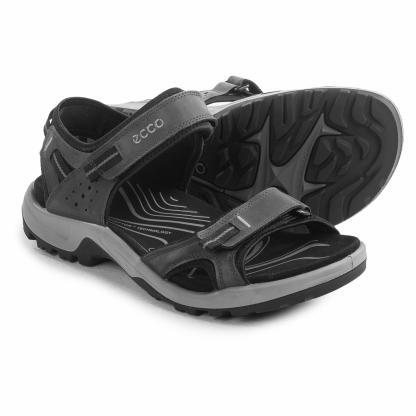ankle: (72, 147, 85, 159)
heel: (30, 220, 39, 233)
pinky: (235, 291, 250, 307)
right_foot: (23, 99, 364, 318)
toe: (336, 239, 350, 250)
